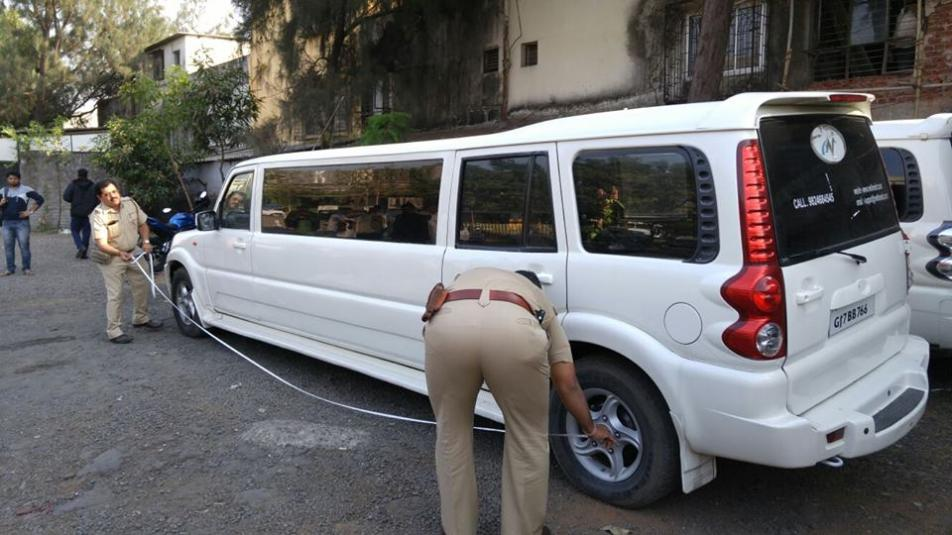number_plate: (822, 297, 891, 330)
